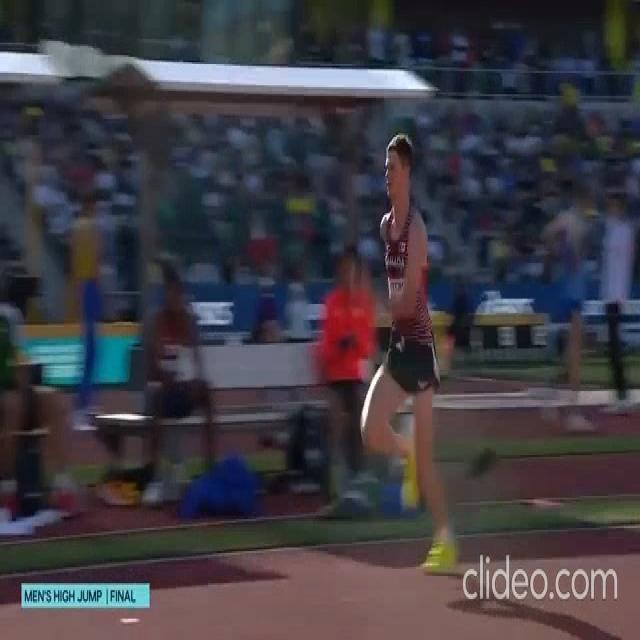run: (361, 126, 456, 578)
